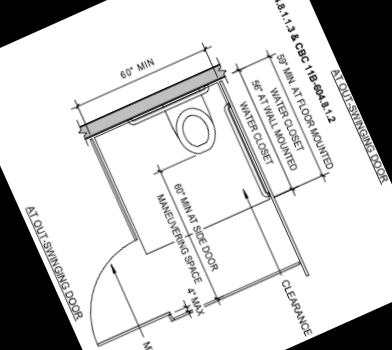door: (60, 237, 174, 350)
